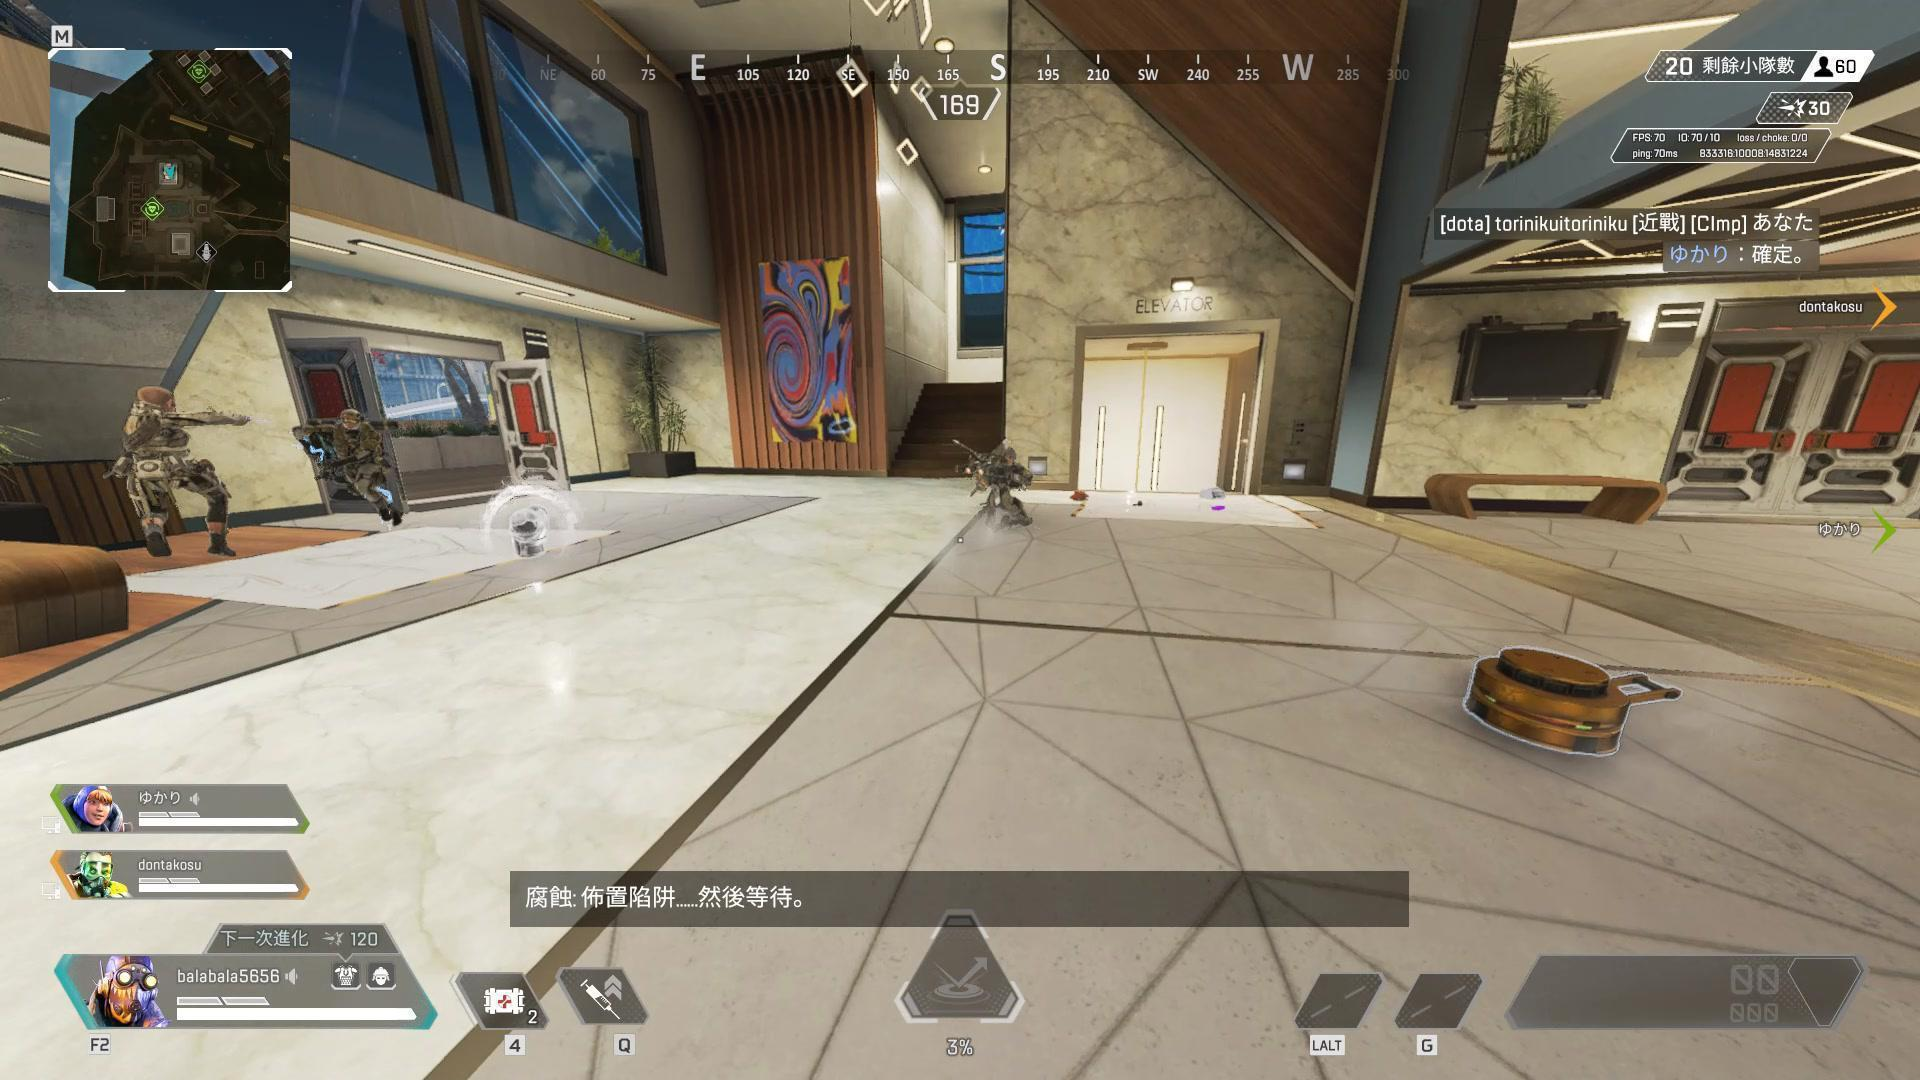avatar: (121, 384, 235, 560)
